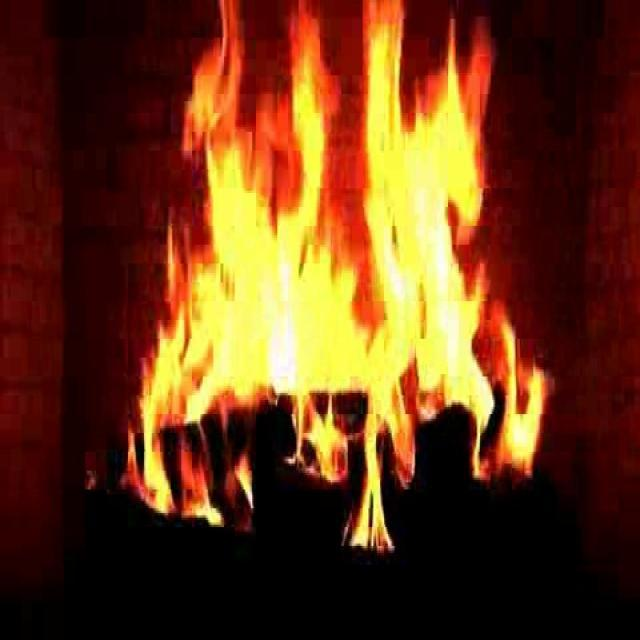Fire: (156, 14, 552, 502)
